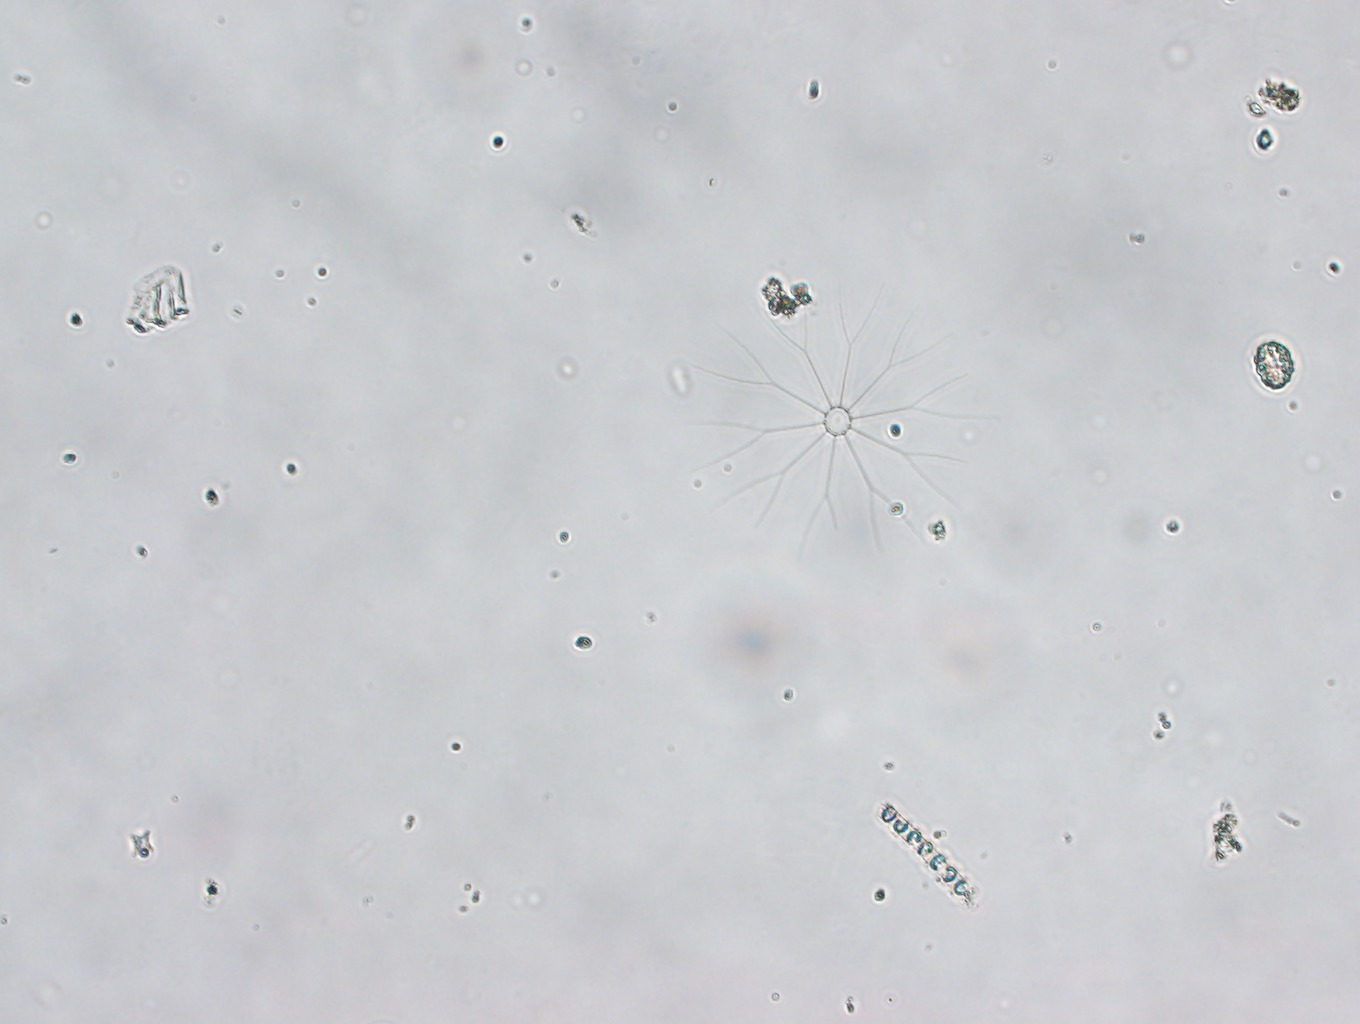bacteriastrum: (683, 276, 994, 558)
skeletonema: (868, 799, 976, 906)
